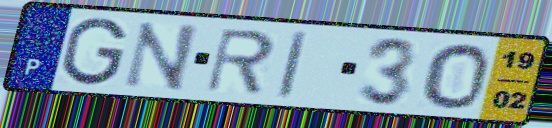3: (360, 36, 422, 108)
G: (58, 15, 129, 87)
I: (274, 29, 311, 102)
N: (119, 19, 202, 93)
O: (420, 41, 492, 111)
R: (202, 27, 278, 96)
